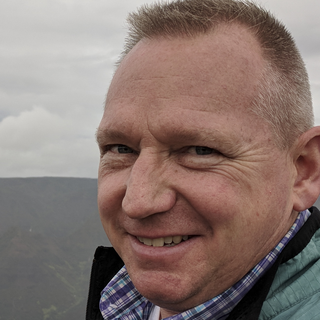eye: (173, 140, 226, 166), (97, 136, 139, 163)
